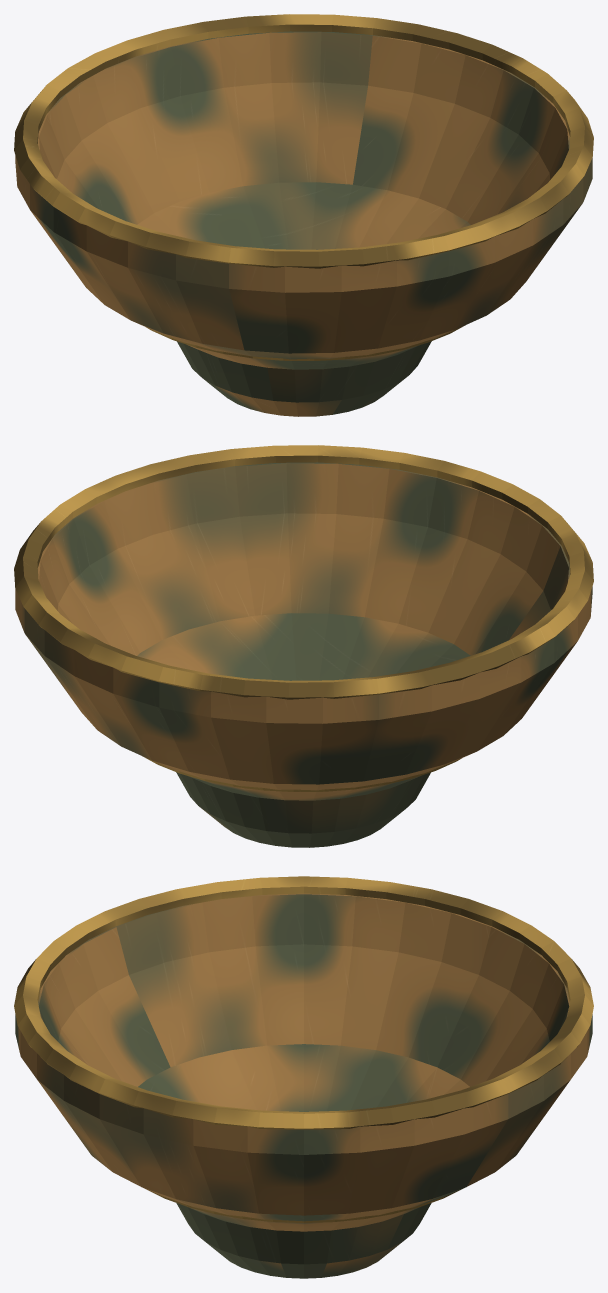
The model's file is b10_bronze_bowl.fbx.
The picture shows the model from 3 angles, top to bottom: view 1: azimuth 30°, elevation 25°; view 2: azimuth 150°, elevation 25°; view 3: azimuth 270°, elevation 25°; orthographic projection.
Visible parts, largest first — view 1: b10_bronze_bowl; view 2: b10_bronze_bowl; view 3: b10_bronze_bowl.
Boxes of the visible parts, x1,y1,x2,y2 form: b10_bronze_bowl: [14, 14, 593, 416]; b10_bronze_bowl: [14, 445, 593, 847]; b10_bronze_bowl: [14, 876, 593, 1278].
Size of the model in its own units: 9840 by 9840 by 4609.
